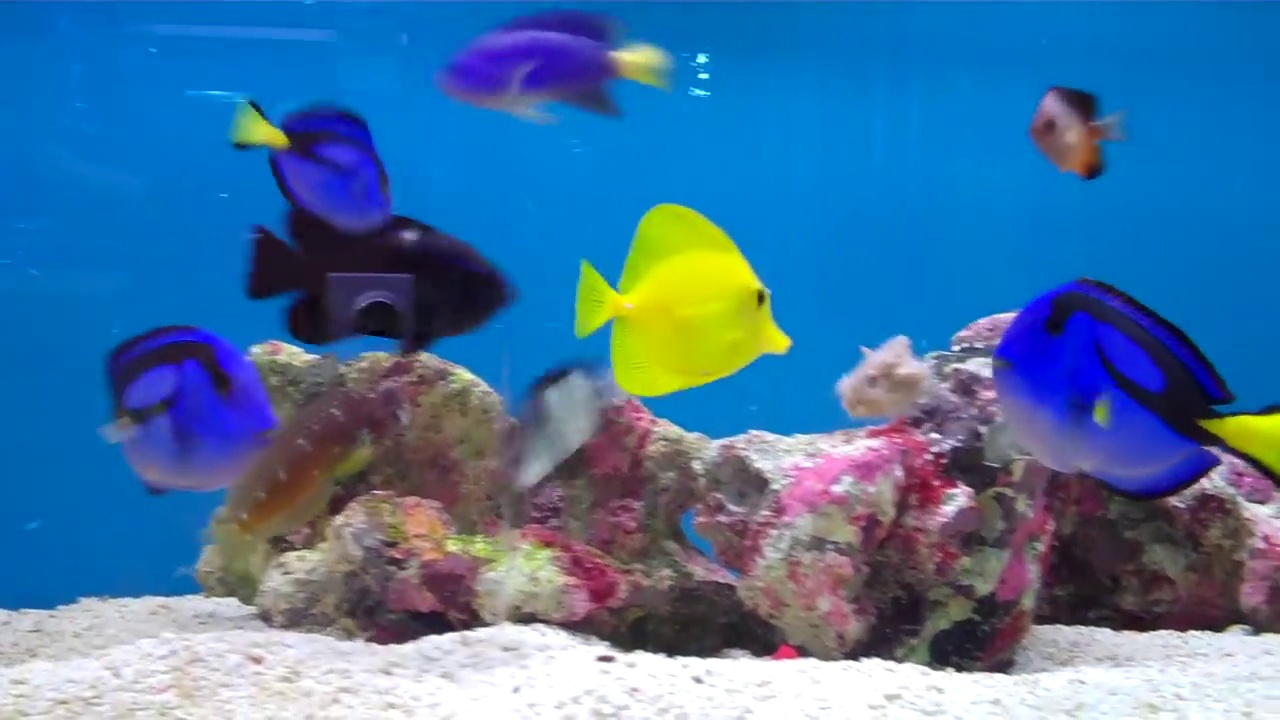blue tang surgeonfish: (966, 274, 1280, 503), (85, 316, 281, 503), (229, 87, 394, 243)
saddle butterfly fish: (560, 191, 796, 394)
